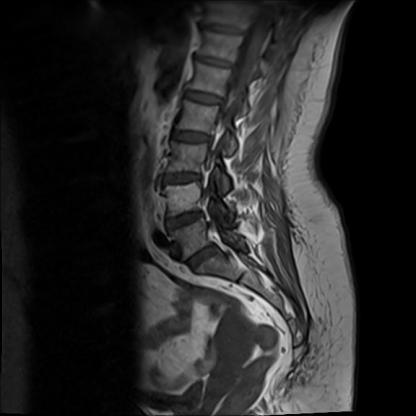Disc Relaxationrotation: (160, 210, 212, 232)
